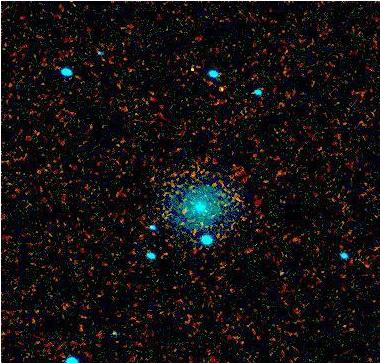star: (177, 55, 207, 85)
